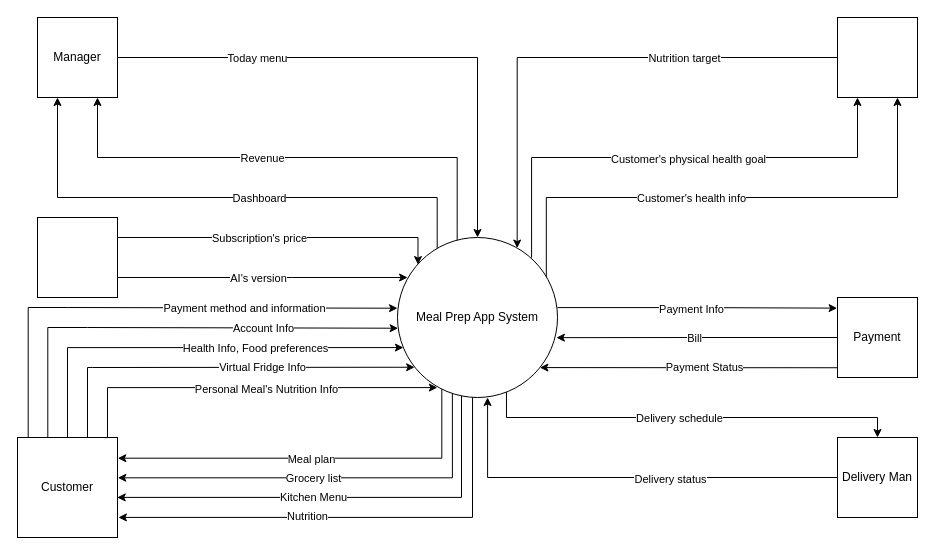
Some shapes in this 935 by 555 pixel diagram are drawn without their labels. The box of each missing label's shape, as (x1, y1, x2, y2) in pixels:
Admin: (36, 216, 118, 298)
AI Agent: (836, 16, 918, 98)
